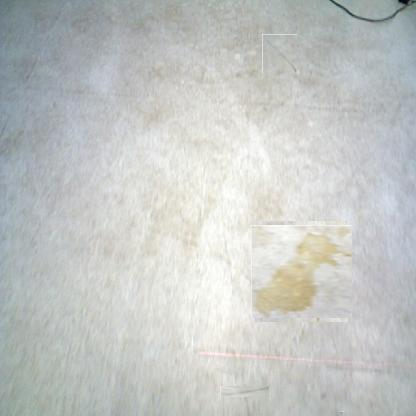liquid: (253, 223, 350, 320)
mark: (262, 34, 297, 73), (230, 376, 260, 407), (340, 411, 344, 416)
